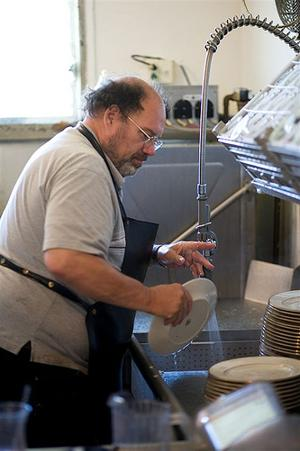person: (2, 72, 214, 449)
